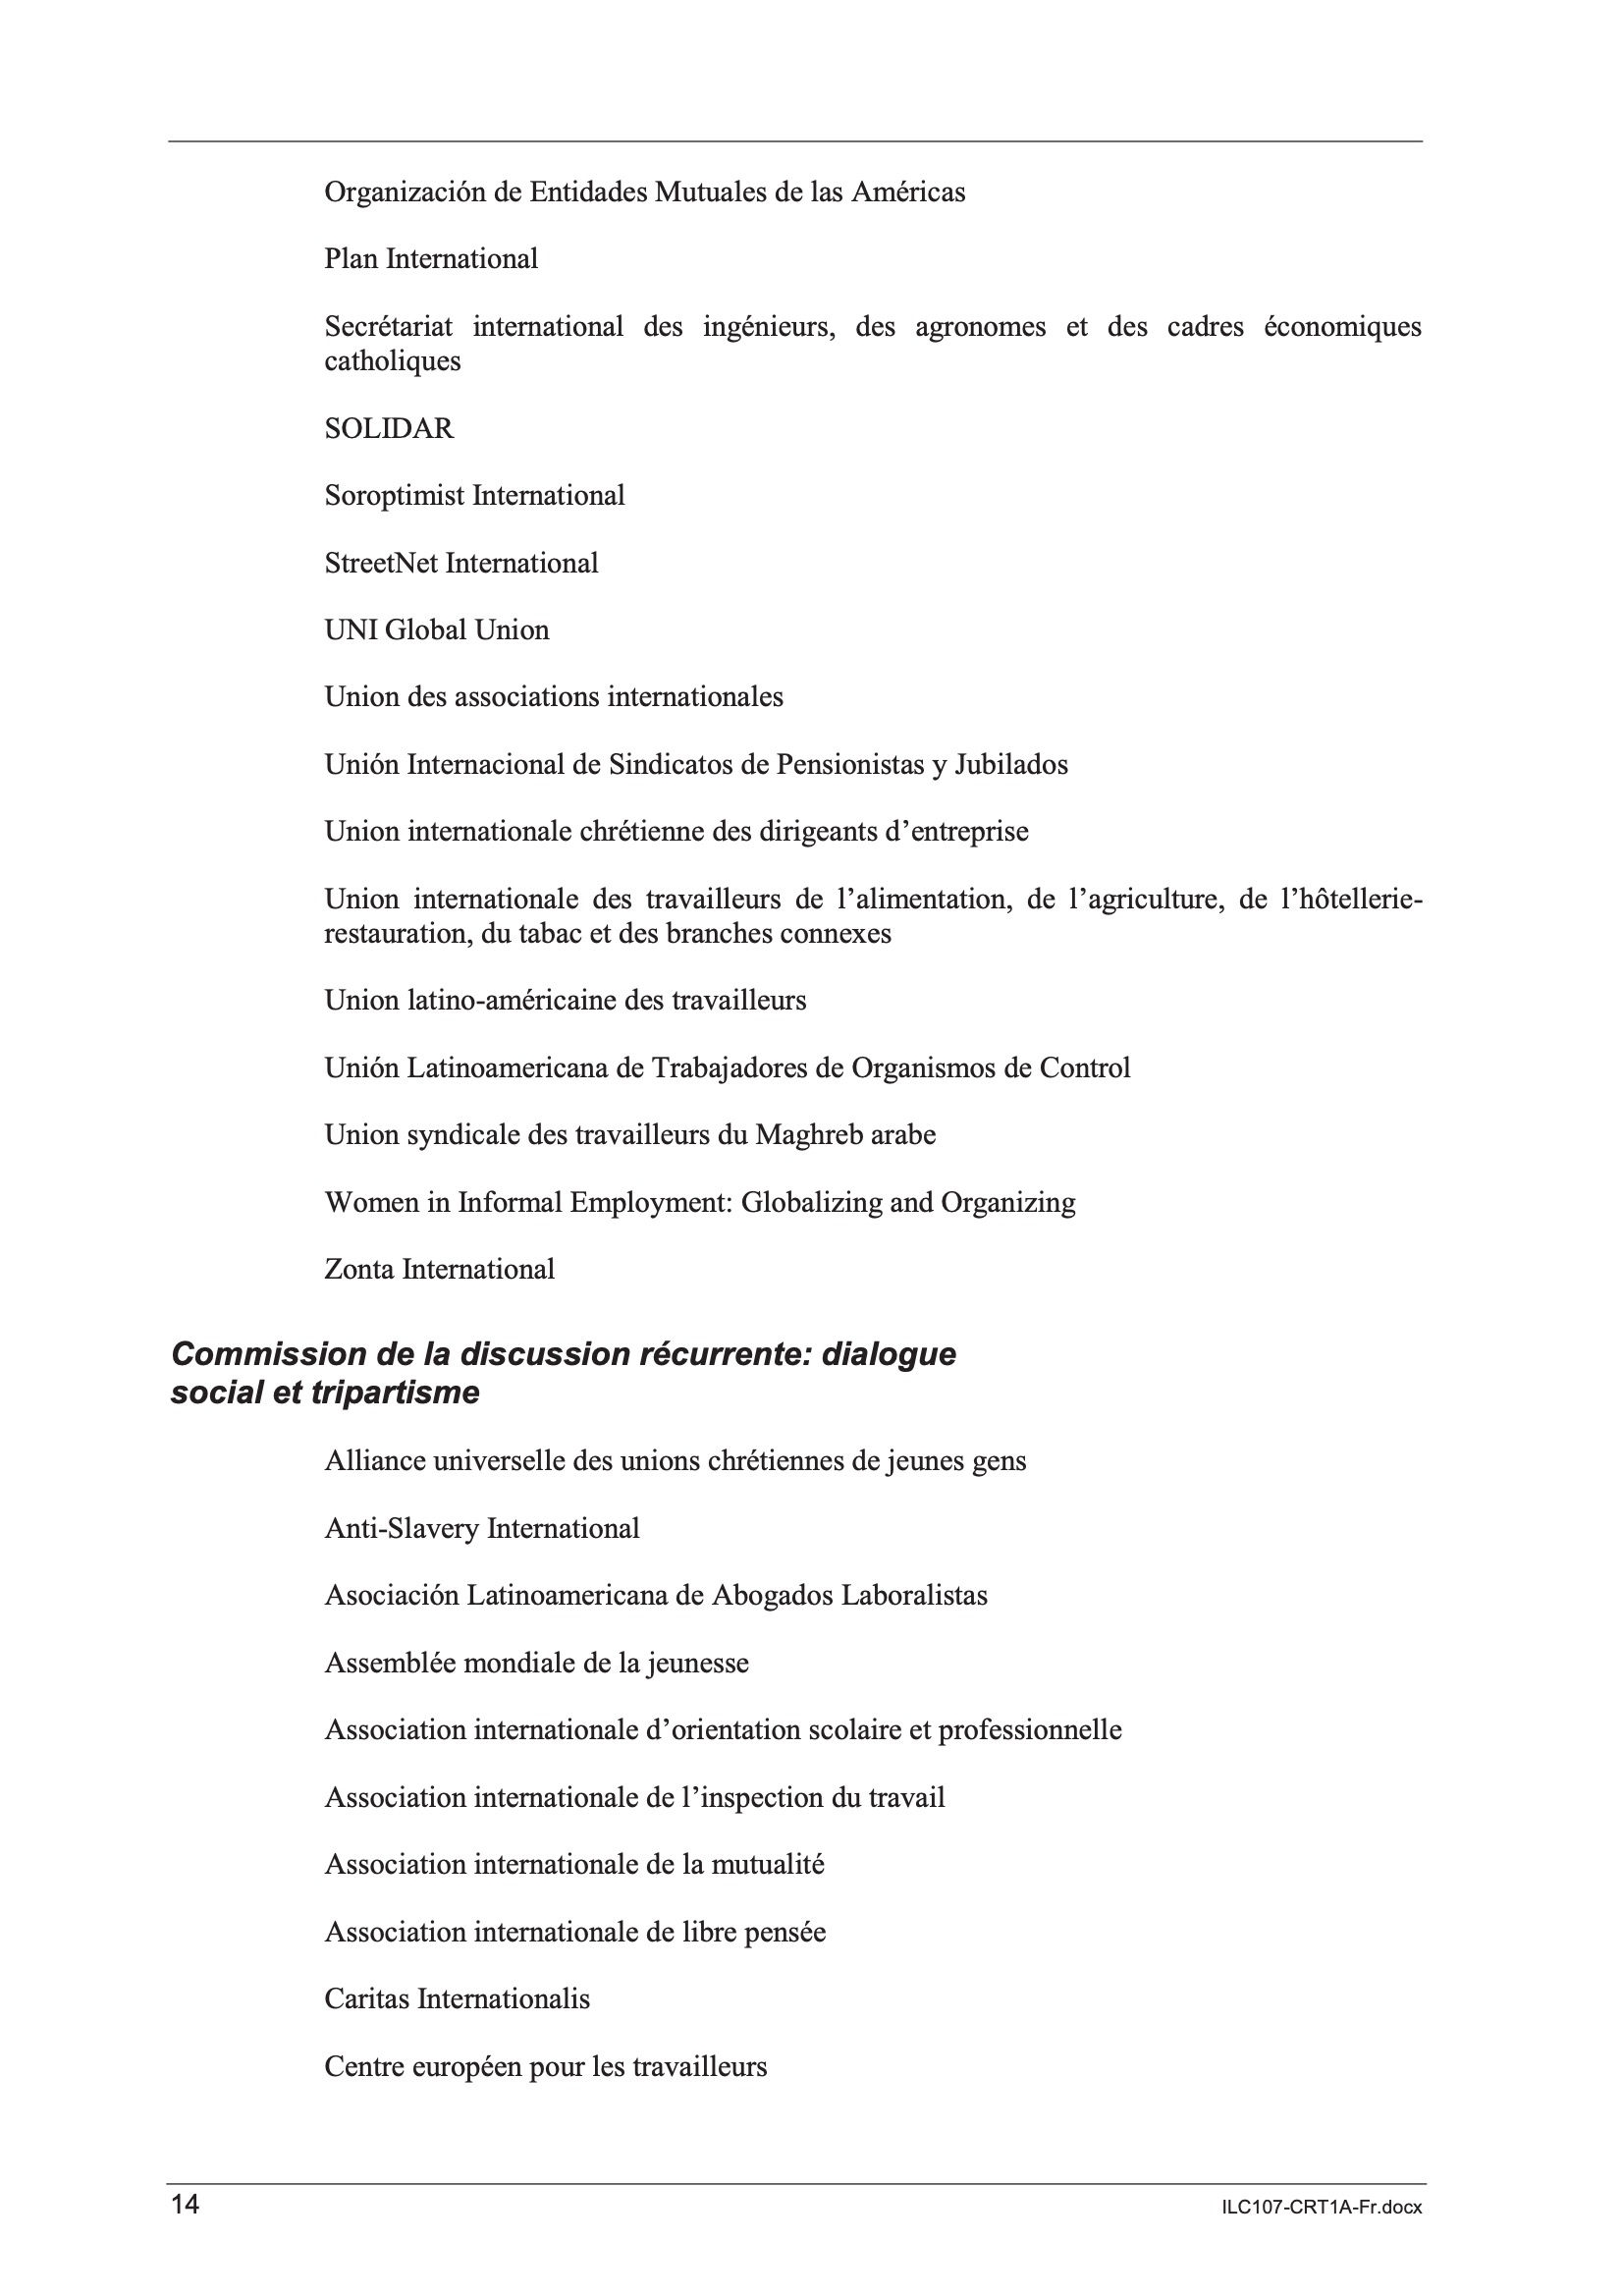MainZone-Entry: (149, 1321, 1031, 1421)
MainZone-ListItem: (300, 870, 1439, 959), (307, 304, 1467, 388), (290, 1700, 1140, 1758), (302, 1042, 1156, 1096), (302, 803, 1077, 861), (302, 736, 1094, 792), (306, 1430, 1045, 1490), (302, 1567, 1017, 1625), (293, 1105, 964, 1163), (302, 165, 982, 220), (299, 1771, 978, 1823), (311, 1177, 1078, 1223), (293, 2034, 792, 2105), (302, 971, 831, 1029), (302, 668, 799, 726), (295, 1906, 841, 1959), (300, 1838, 847, 1888), (300, 1635, 771, 1692), (306, 1500, 659, 1555), (302, 469, 643, 520), (302, 538, 617, 588), (290, 1978, 613, 2027), (299, 230, 559, 285), (302, 603, 566, 655), (307, 1251, 592, 1295), (306, 401, 472, 451)
NumberingZone: (162, 2185, 209, 2229)
RunningTitleZone: (1208, 2184, 1430, 2231)
